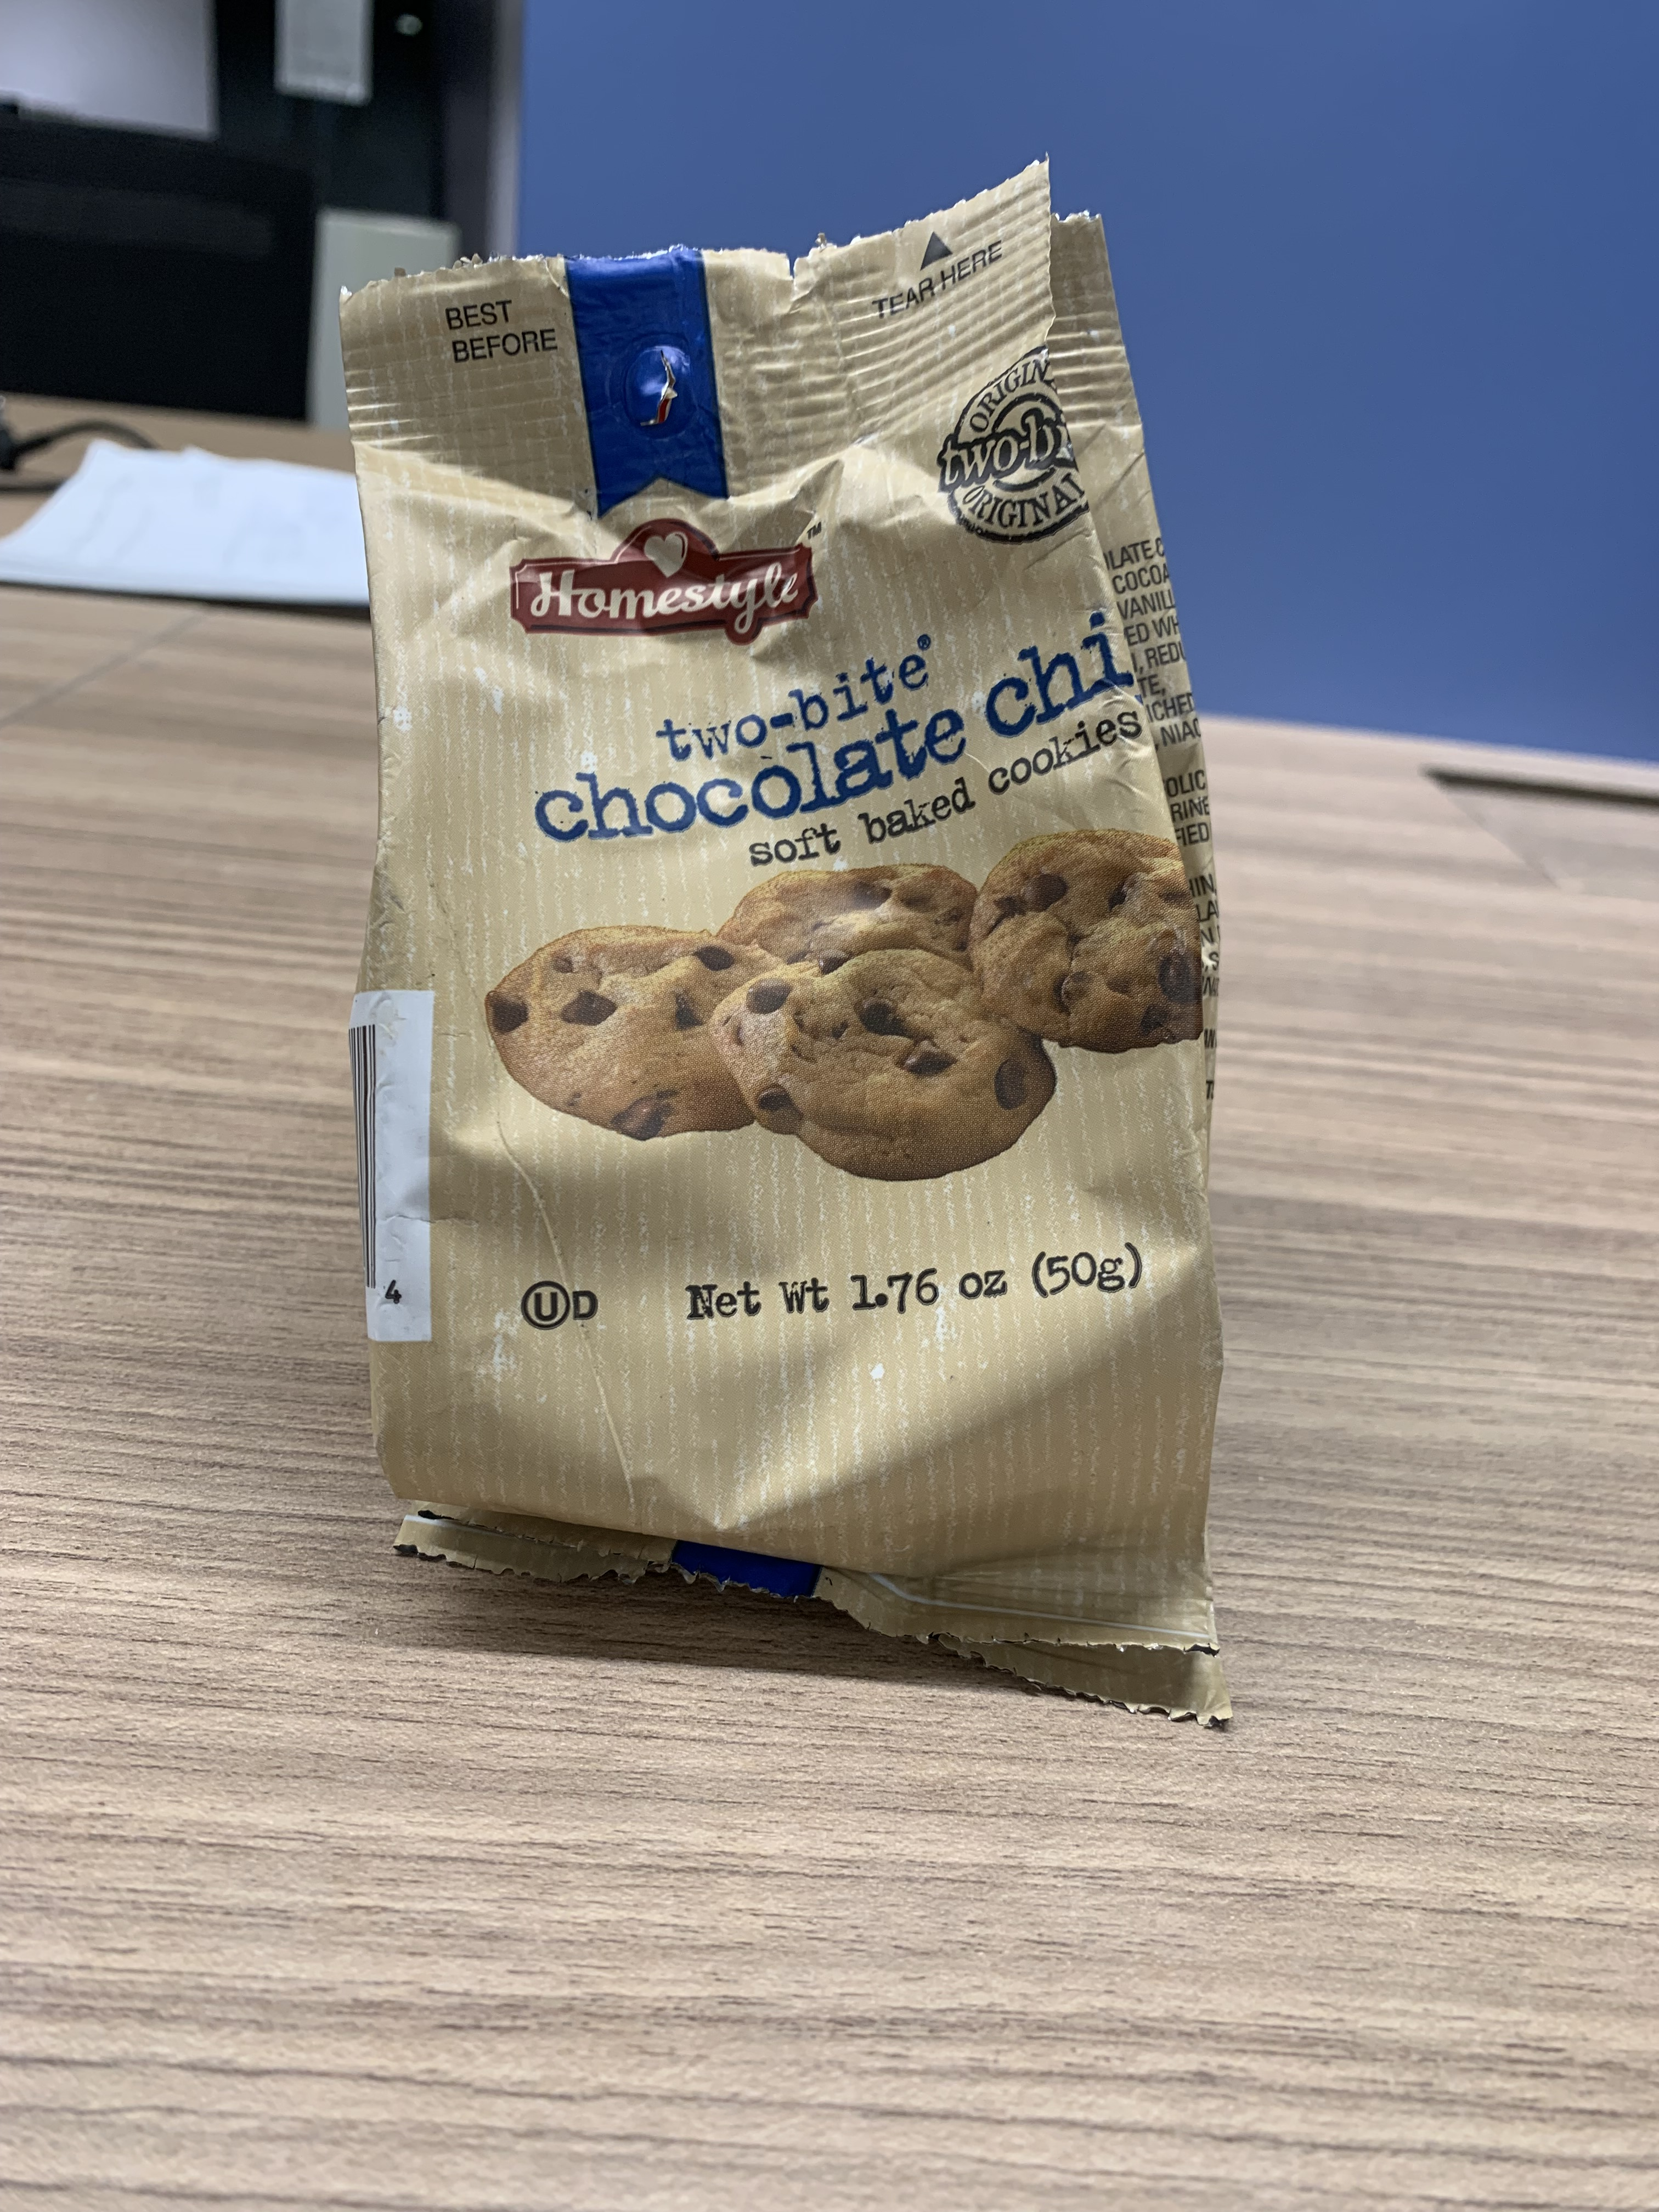cookies_1g-99g: (317, 131, 1243, 1730)
